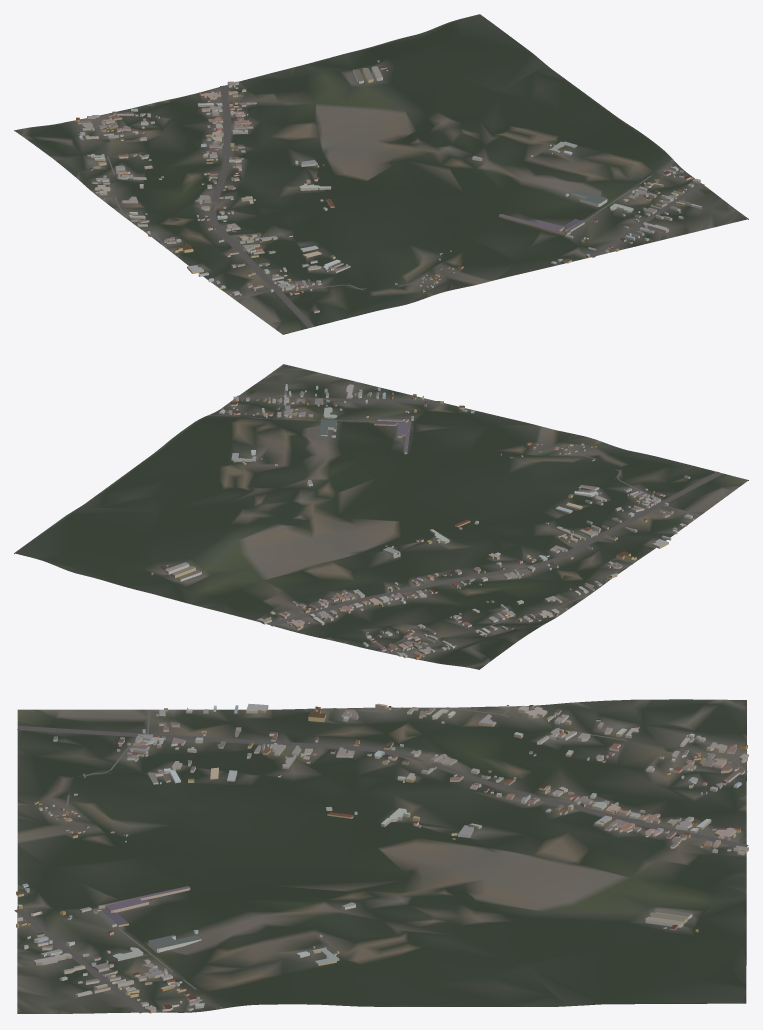
3 views of the same model, one above another, from view 1: azimuth 30°, elevation 25°; view 2: azimuth 150°, elevation 25°; view 3: azimuth 270°, elevation 25° (orthographic). The views are drawn at different scales.
Visible parts, largest first — view 1: ground, buildings, roads; view 2: ground, buildings, roads; view 3: ground, buildings, roads.
Boxes of the visible parts, x1,y1,x2,y2 form: ground: (14, 14, 748, 334); buildings: (76, 60, 701, 313); roads: (81, 85, 704, 327); ground: (14, 364, 748, 669); buildings: (151, 384, 694, 659); roads: (208, 395, 722, 658); ground: (17, 699, 746, 1013); buildings: (16, 703, 748, 1013); roads: (14, 707, 748, 1013).
Bounding box in the file's own units: 1418 × 32.98 × 1412.
